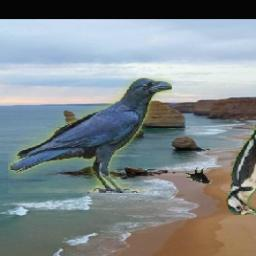Crow: (8, 78, 172, 194), (187, 168, 213, 184)
Woodpecker: (226, 83, 256, 216)
